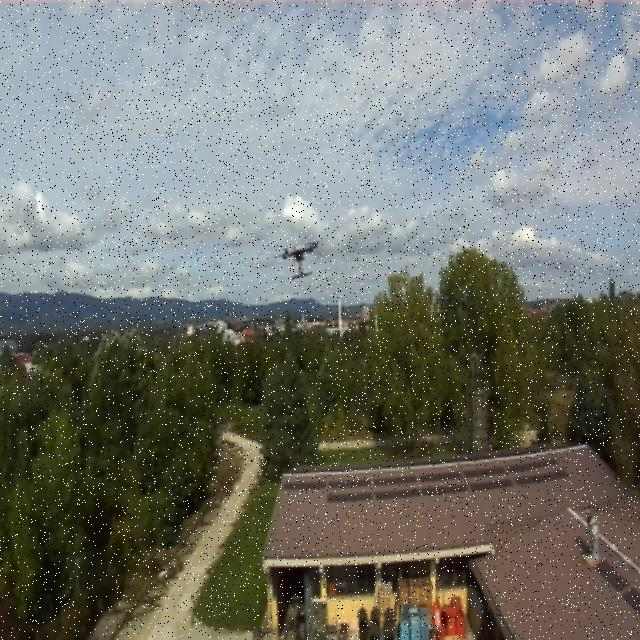UAV: (273, 235, 327, 281)
